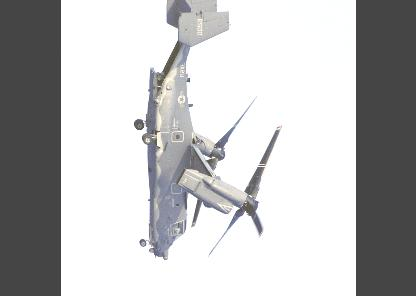Tornado: (132, 0, 282, 261)
